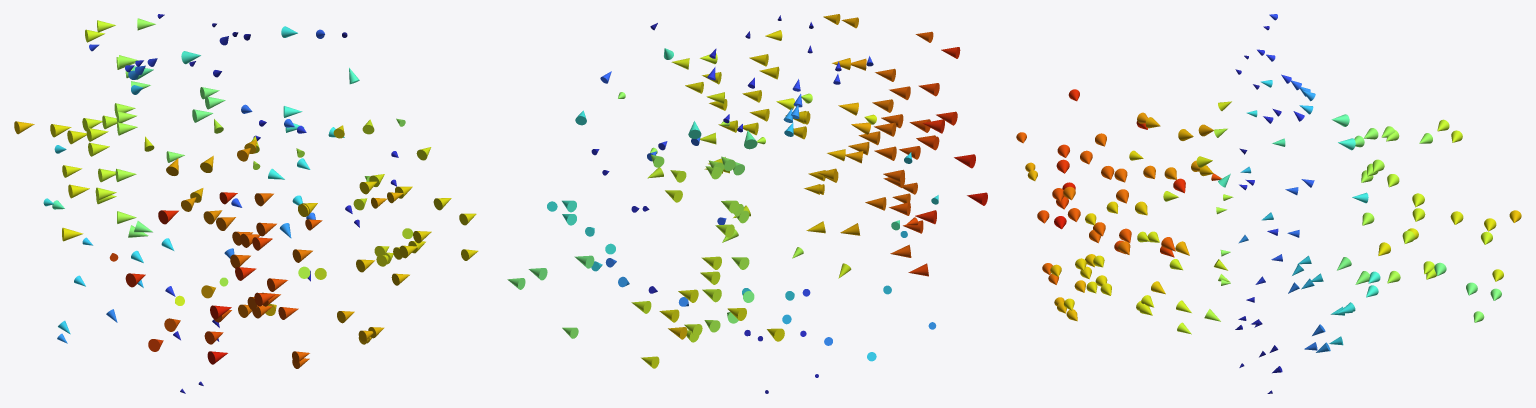
File: LineasCorrienteH2-O2_mh2-2.70_V-0.8.glb
The picture shows the model from 3 angles, left to right: view 1: azimuth 30°, elevation 25°; view 2: azimuth 150°, elevation 25°; view 3: azimuth 270°, elevation 25°; orthographic projection. The views are drawn at different scales.
Bounding box in the file's own units: 0.000917 × 0.000953 × 0.00125.
Materials: 2 (2 with a texture image).
